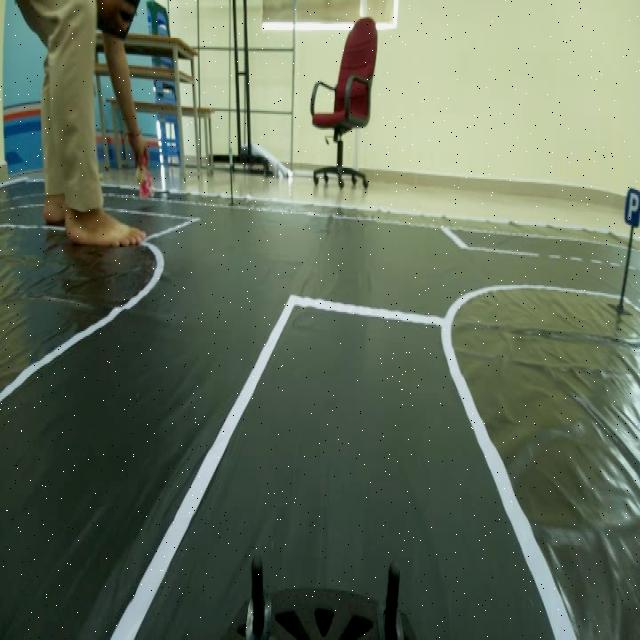parking: (624, 184, 640, 230)
